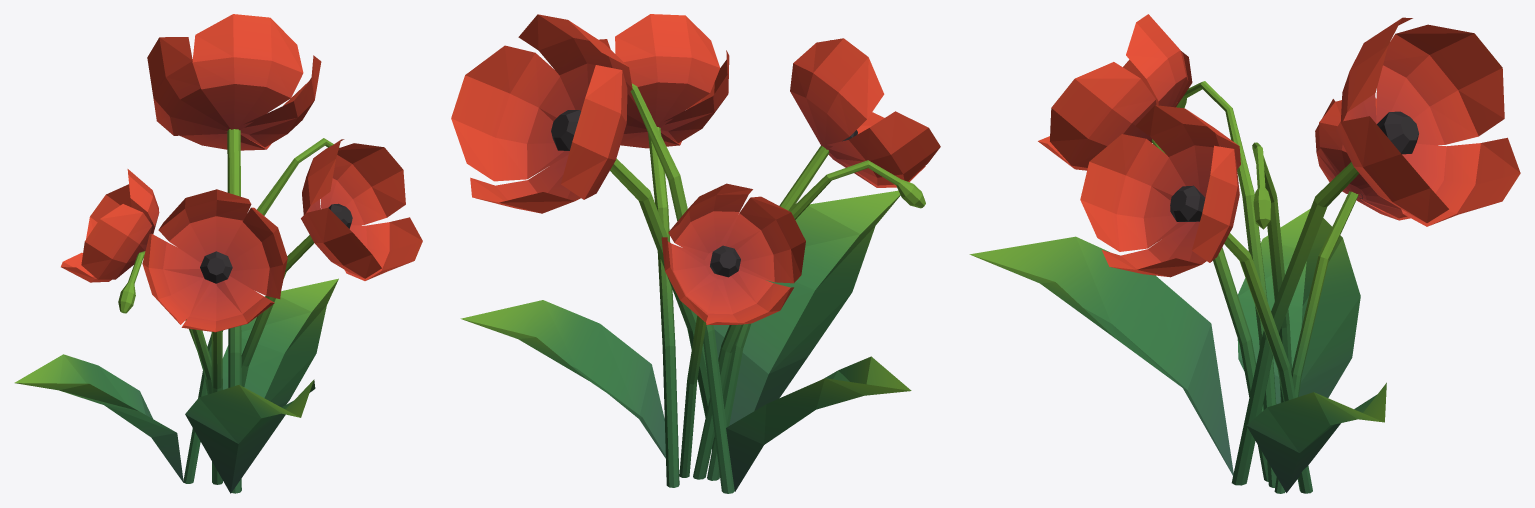
File: roja-1.glb
3 views of the same model, side by side, from view 1: azimuth 30°, elevation 25°; view 2: azimuth 150°, elevation 25°; view 3: azimuth 270°, elevation 25° (orthographic). The views are drawn at different scales.
Visible parts, largest first — view 1: Flower.029; view 2: Flower.029; view 3: Flower.029.
Part boxes in pixels (bbox=[...]): Flower.029: bbox=[14, 14, 422, 493]; Flower.029: bbox=[451, 14, 940, 493]; Flower.029: bbox=[969, 14, 1520, 493].
Size of the model in its own units: 2.66 by 2.95 by 2.93.
1 material, 1 textured.
